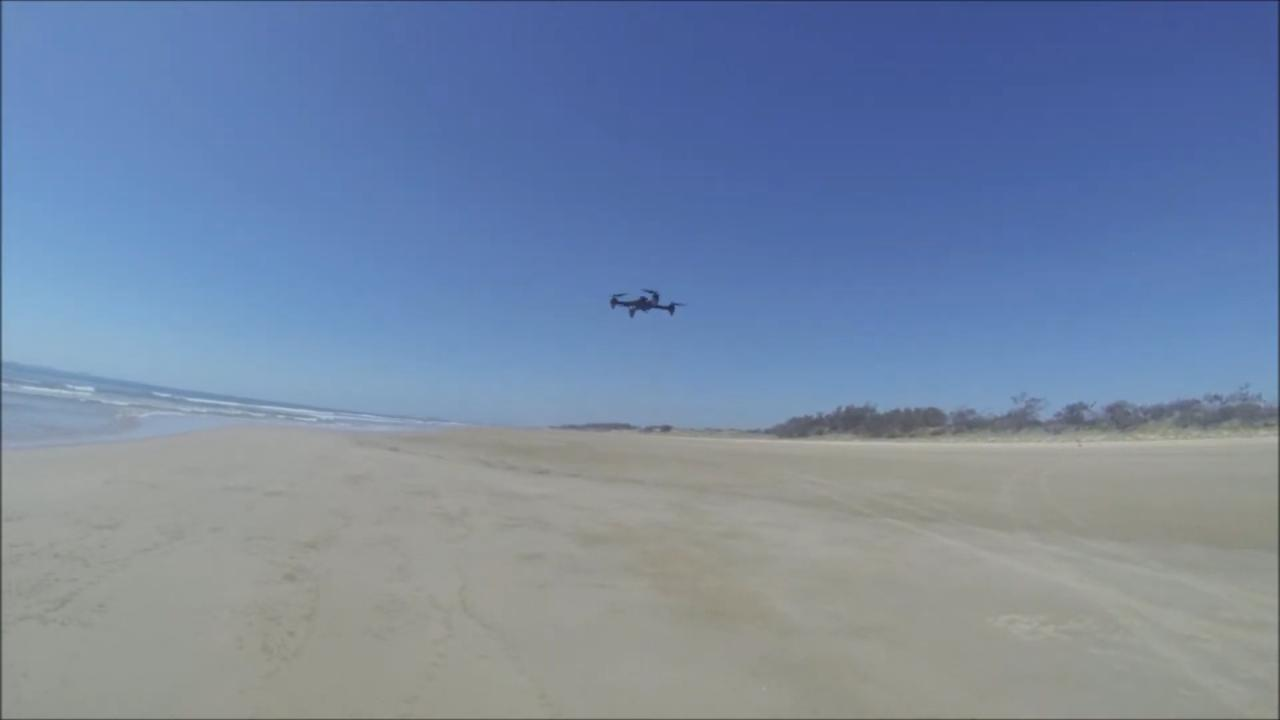Drone: (596, 280, 696, 329)
